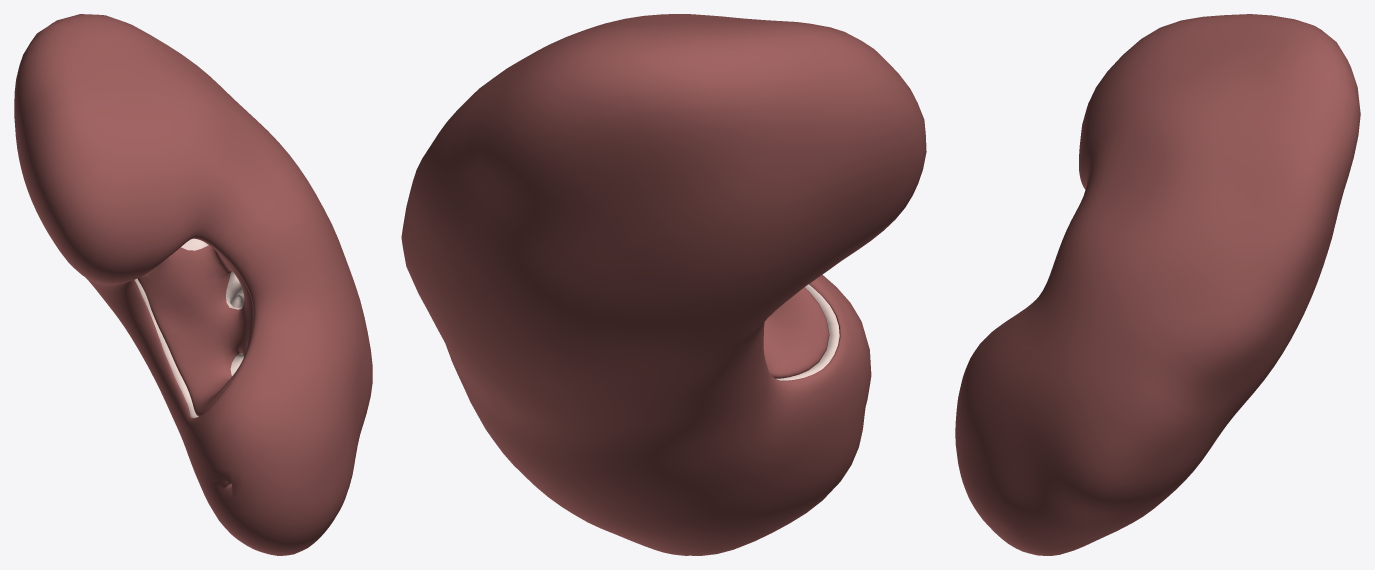
The model's file is kidney_l.glb.
3 views of the same model, side by side, from view 1: azimuth 30°, elevation 25°; view 2: azimuth 150°, elevation 25°; view 3: azimuth 270°, elevation 25° (orthographic). The views are drawn at different scales.
Parts seen in each view (by area): view 1: VH_M_kidney_capsule_L, VH_M_renal_column_L; view 2: VH_M_kidney_capsule_L, VH_M_renal_column_L; view 3: VH_M_kidney_capsule_L.
Part boxes in pixels (x1,y1,x2,y2): VH_M_kidney_capsule_L: (14, 14, 372, 555); VH_M_renal_column_L: (135, 238, 244, 417); VH_M_kidney_capsule_L: (401, 14, 926, 555); VH_M_renal_column_L: (776, 284, 839, 380); VH_M_kidney_capsule_L: (955, 14, 1360, 555).
Size of the model in its own units: 0.0757 by 0.1065 by 0.0824.
